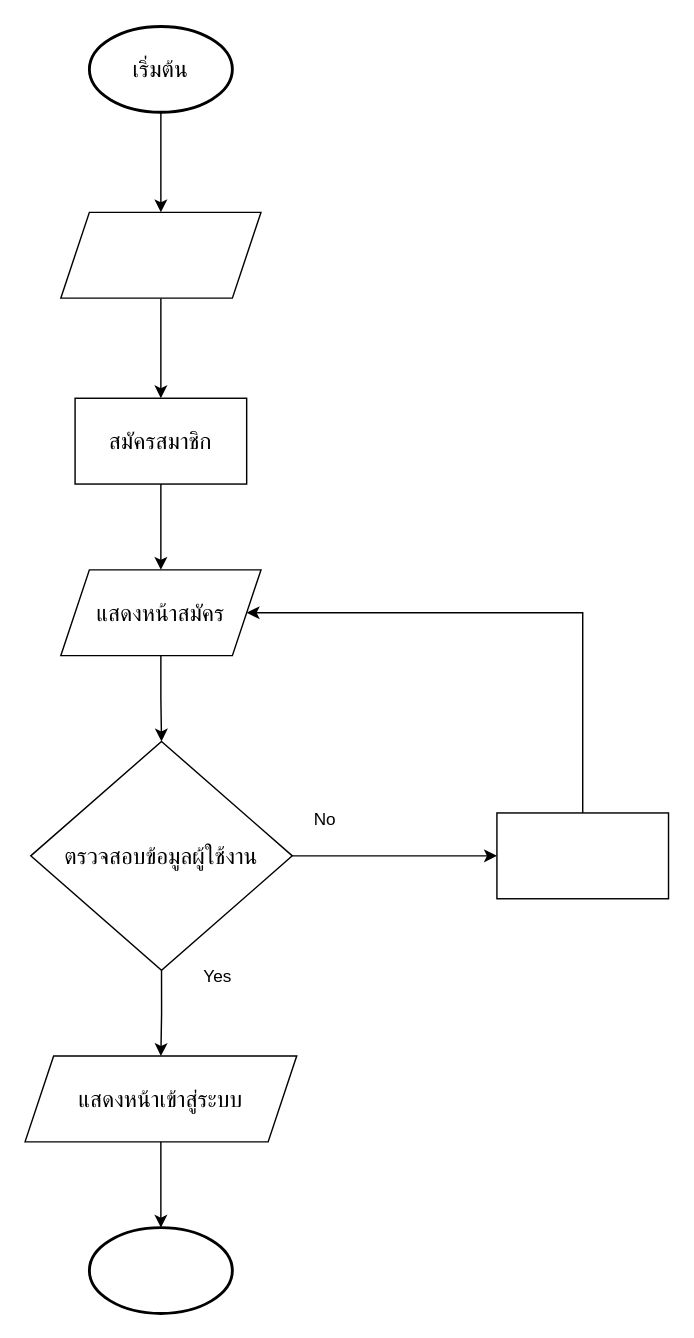
This 694x1338 diagram has some shape labels left out. The centre of each missing label's shape, as x and y in pixels:
"username หรือ password ซ้ำ" goes at pixel 582 855.
"สิ้นสุด" goes at pixel 160 1270.
"แสดงหน้าหลัก" goes at pixel 160 254.
